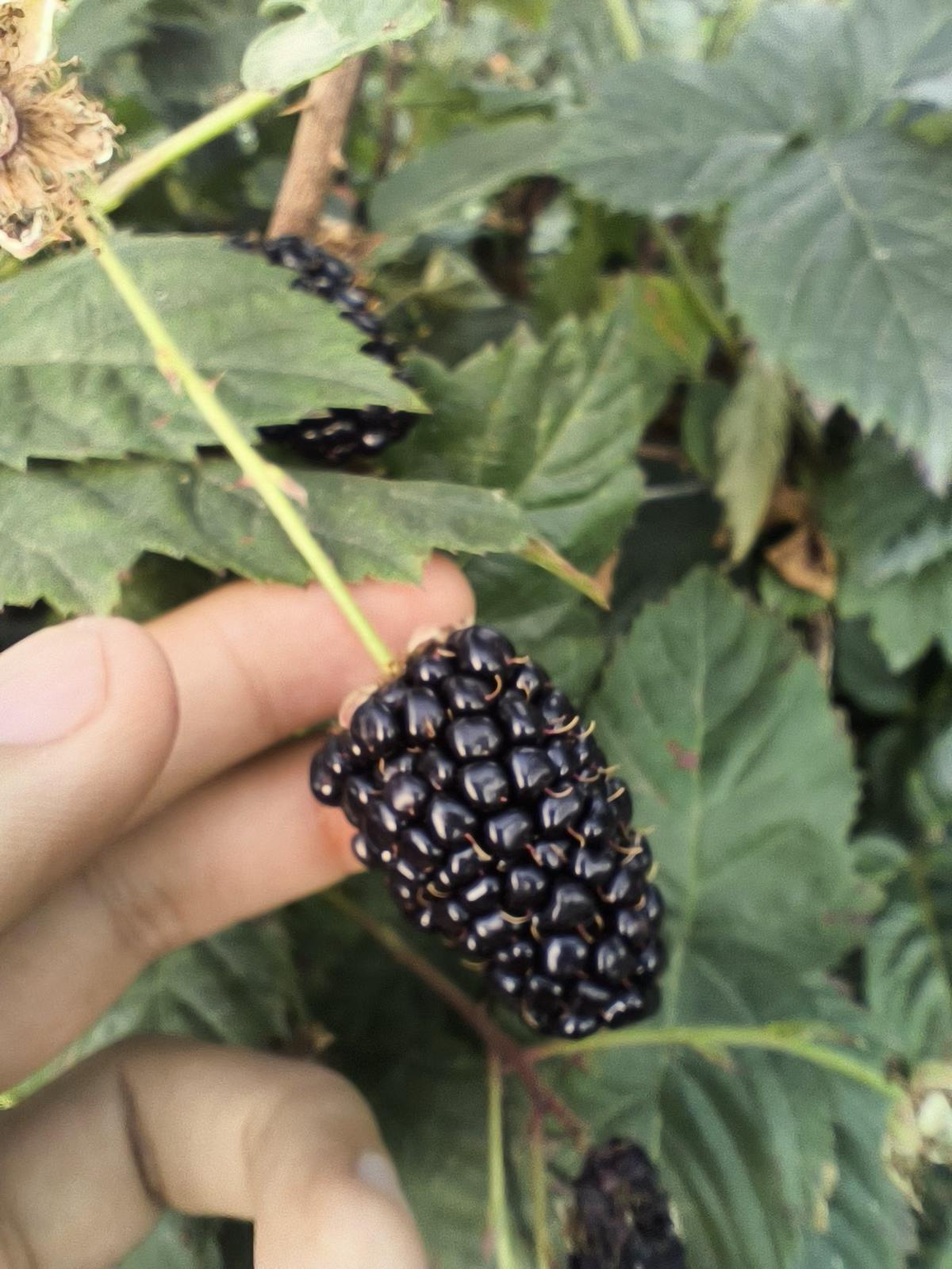maduro: (311, 625, 663, 1047)
